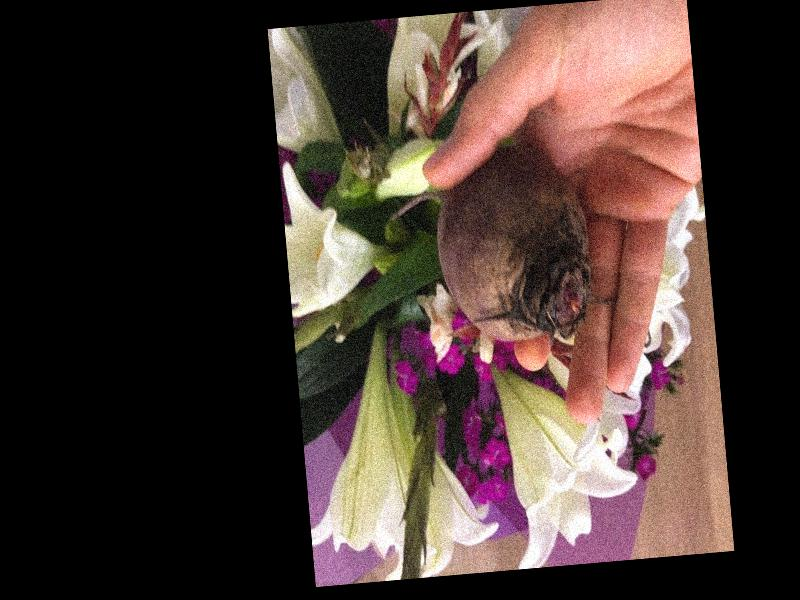Beet: (383, 140, 597, 351)
